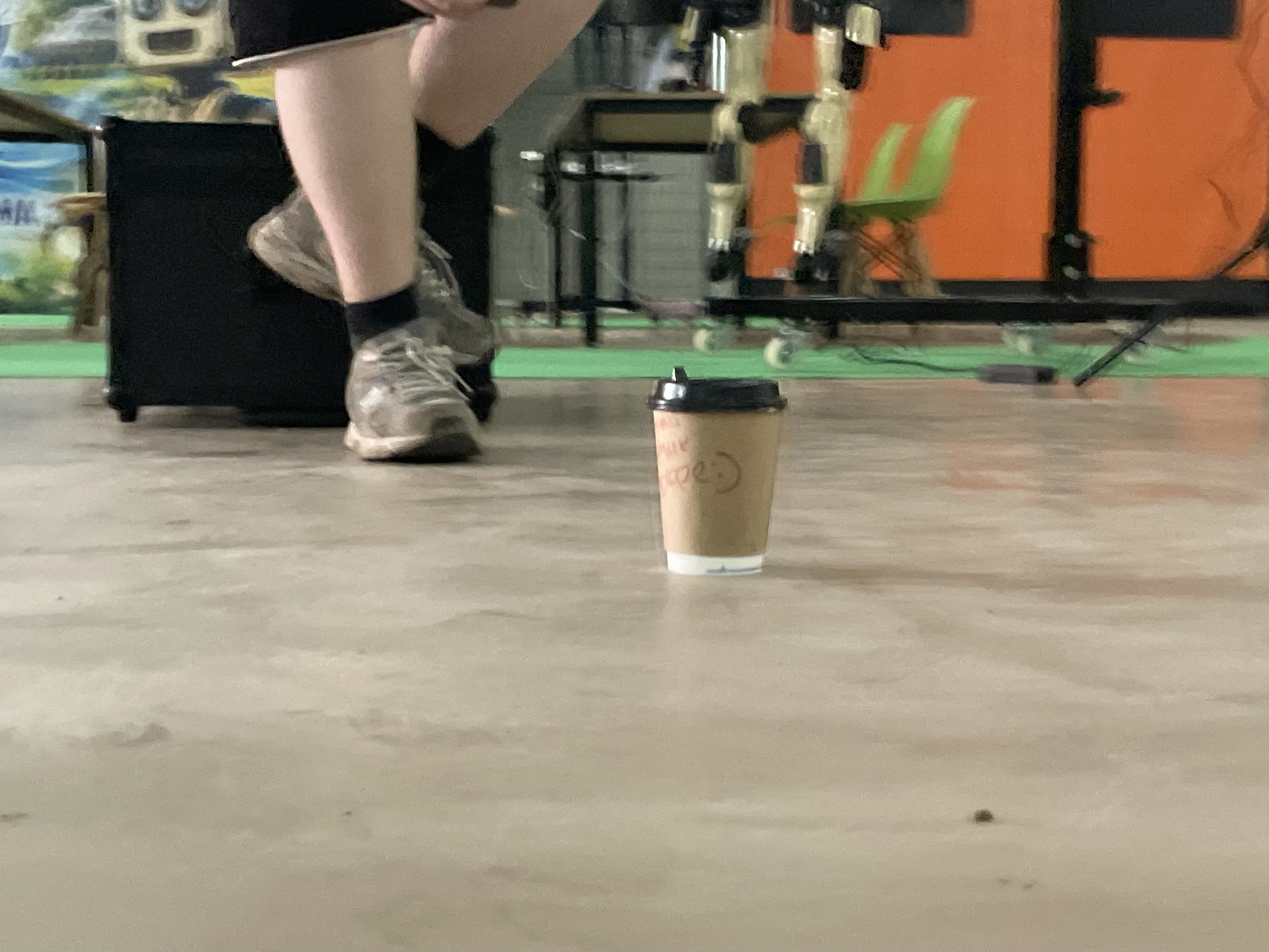cup: (647, 367, 787, 576)
